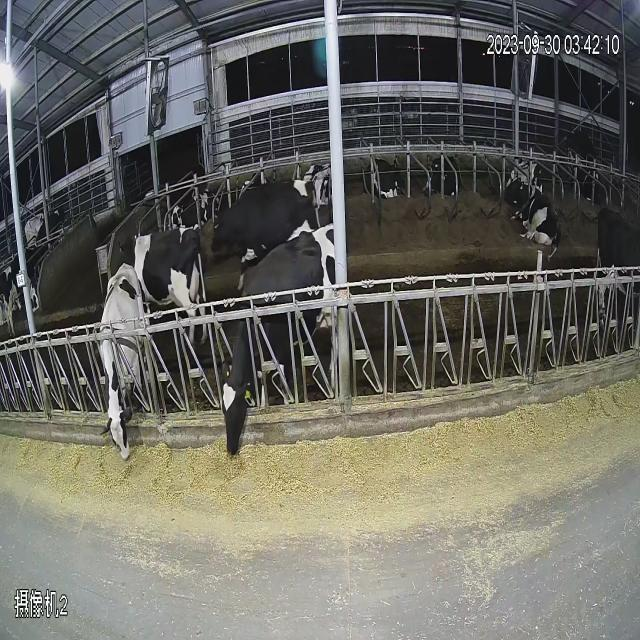feeding: (216, 228, 341, 468), (94, 252, 147, 475)
lying down: (168, 148, 243, 236)
standing: (0, 131, 80, 370), (104, 198, 215, 352), (198, 157, 324, 266), (599, 200, 640, 348)
